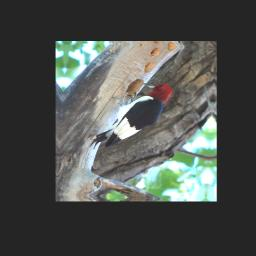Woodpecker: (87, 79, 172, 153)
